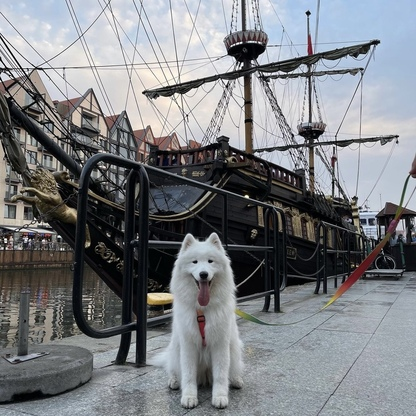samoyed: (144, 230, 258, 416)
